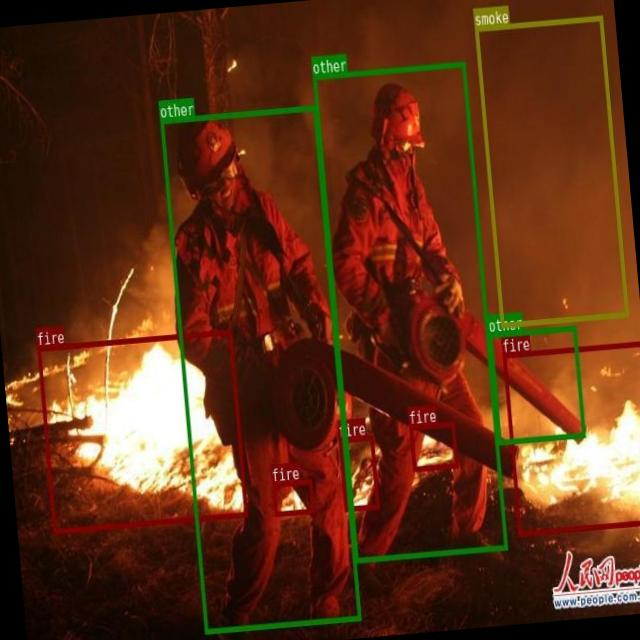fire: (36, 328, 247, 532), (503, 341, 640, 535), (338, 434, 378, 511), (408, 420, 458, 470), (271, 478, 314, 516)
smoke: (474, 16, 628, 327)
